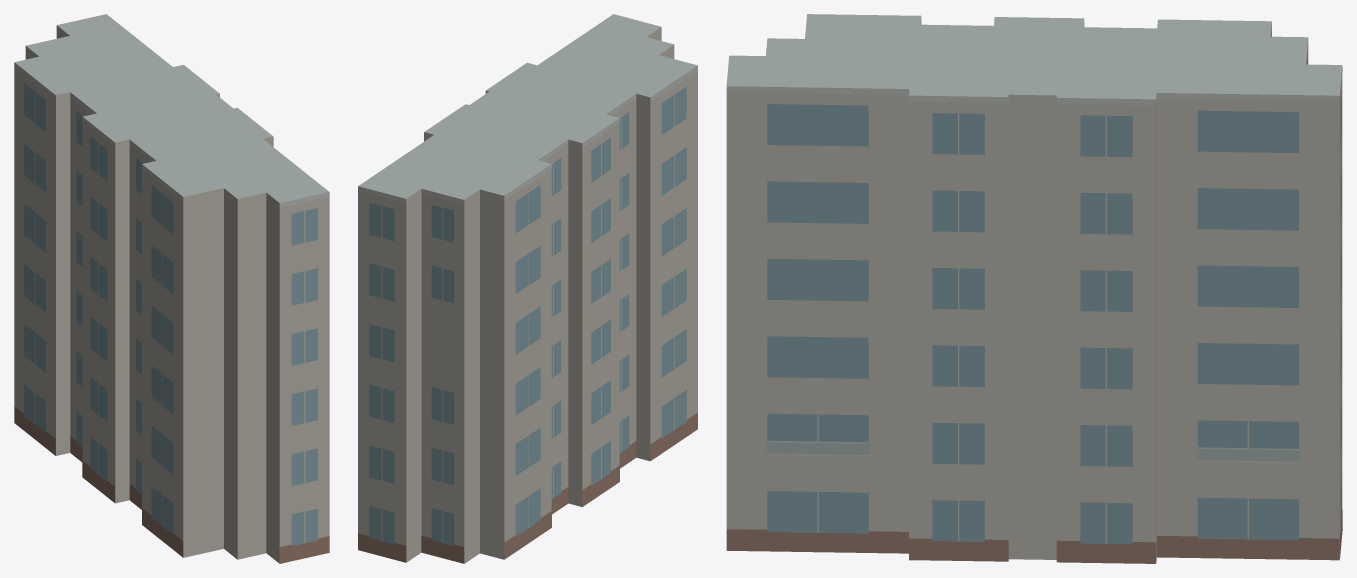
The model's file is survey-upis-32664493.glb.
3 views of the same model, side by side, from view 1: azimuth 30°, elevation 25°; view 2: azimuth 150°, elevation 25°; view 3: azimuth 270°, elevation 25° (orthographic). The views are drawn at different scales.
Parts seen in each view (by area): view 1: survey-upis-32664493.tmp; view 2: survey-upis-32664493.tmp; view 3: survey-upis-32664493.tmp.
Boxes of the visible parts, x1,y1,x2,y2 form: survey-upis-32664493.tmp: (14, 14, 329, 563); survey-upis-32664493.tmp: (358, 14, 697, 563); survey-upis-32664493.tmp: (726, 14, 1342, 563).
Size of the model in its own units: 7.22 by 18.3 by 22.
